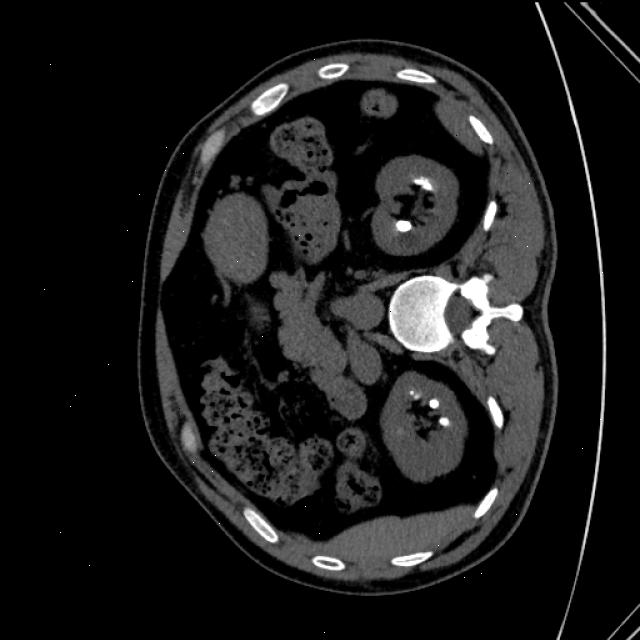kidneystone: (414, 176, 432, 190), (395, 219, 412, 231), (429, 398, 439, 408), (409, 391, 419, 399), (444, 417, 449, 426)
